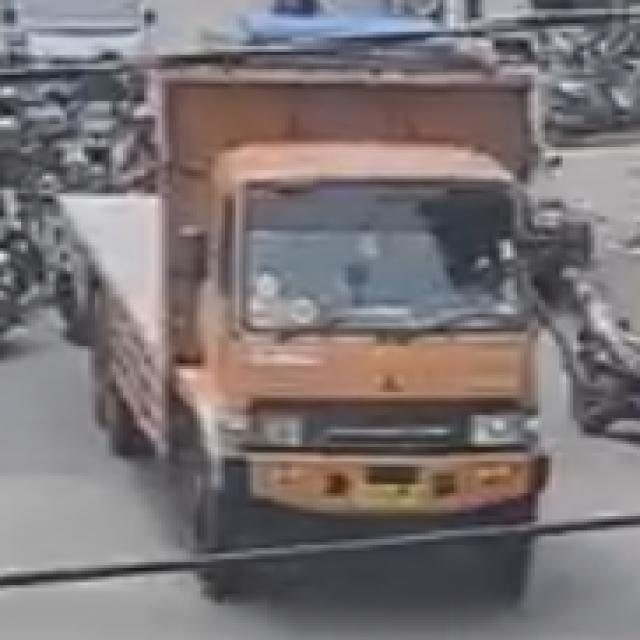truck: (88, 51, 582, 608)
